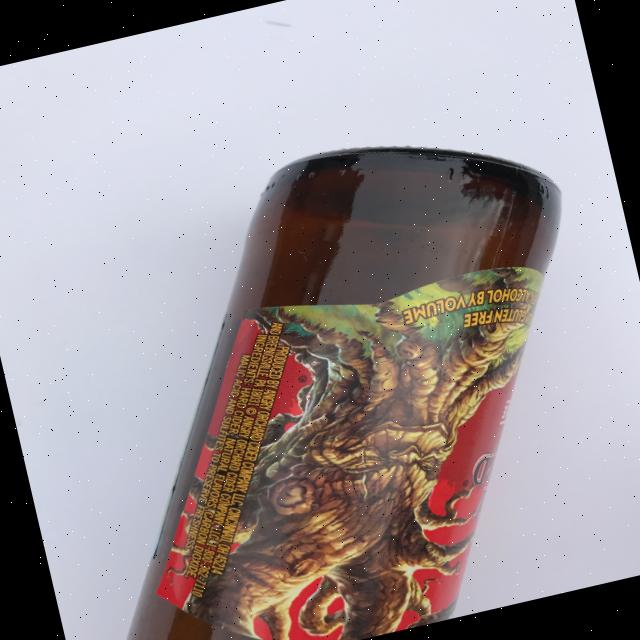glass: (9, 112, 626, 640)
